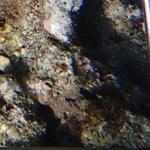dead: (3, 2, 147, 144)
